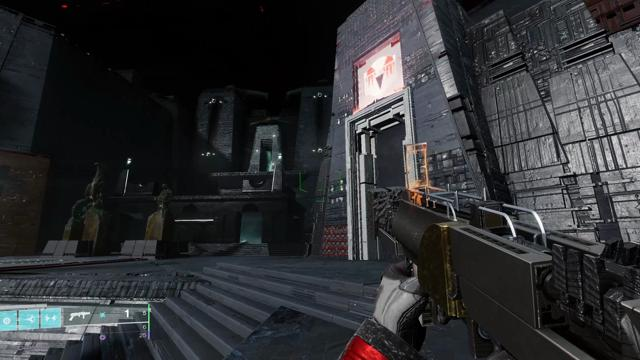give: (364, 55, 396, 96)
